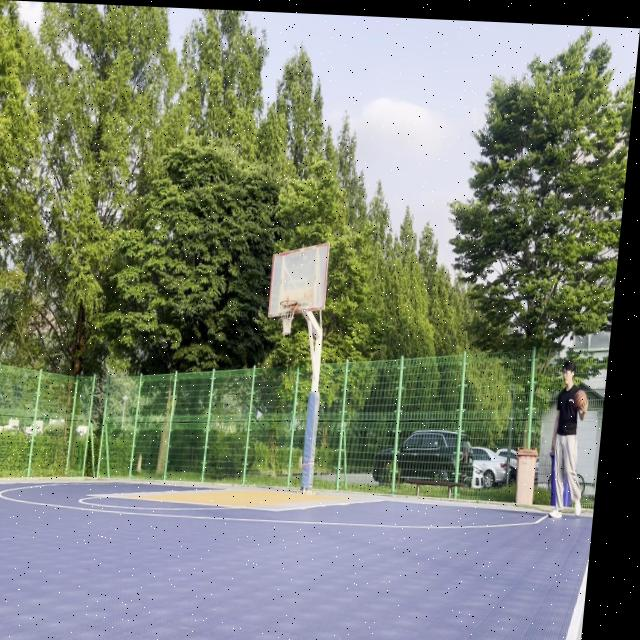basketball: (573, 389, 589, 411)
hoop: (276, 298, 298, 337)
